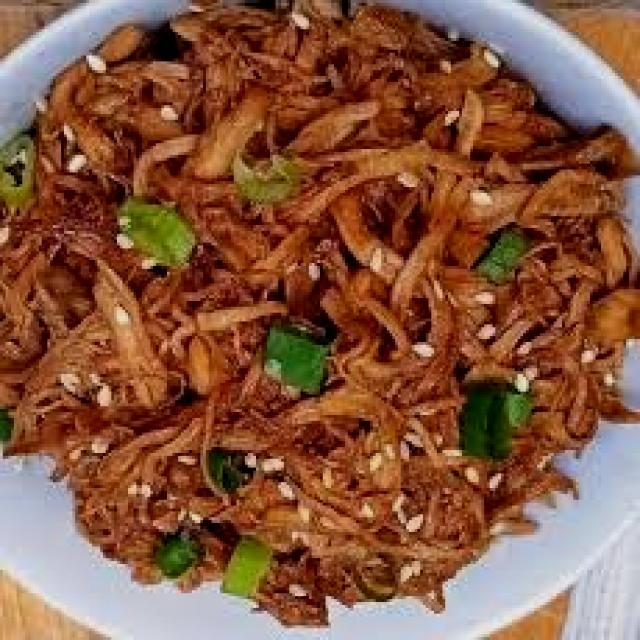ayam_suwir: (4, 7, 630, 626)
